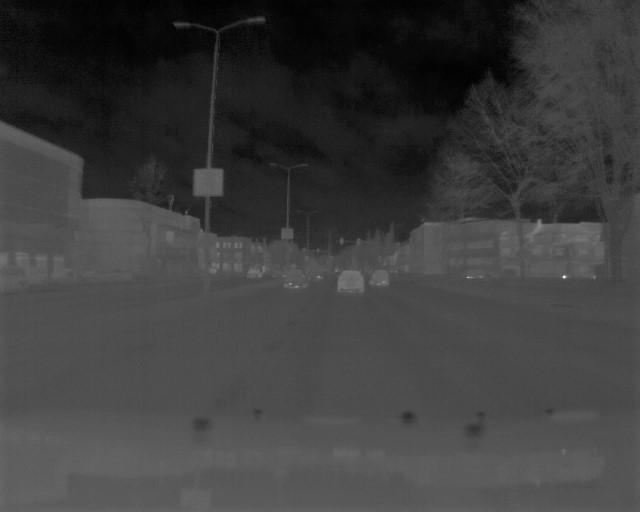car: (336, 267, 365, 298), (282, 266, 310, 291), (367, 268, 394, 288)
